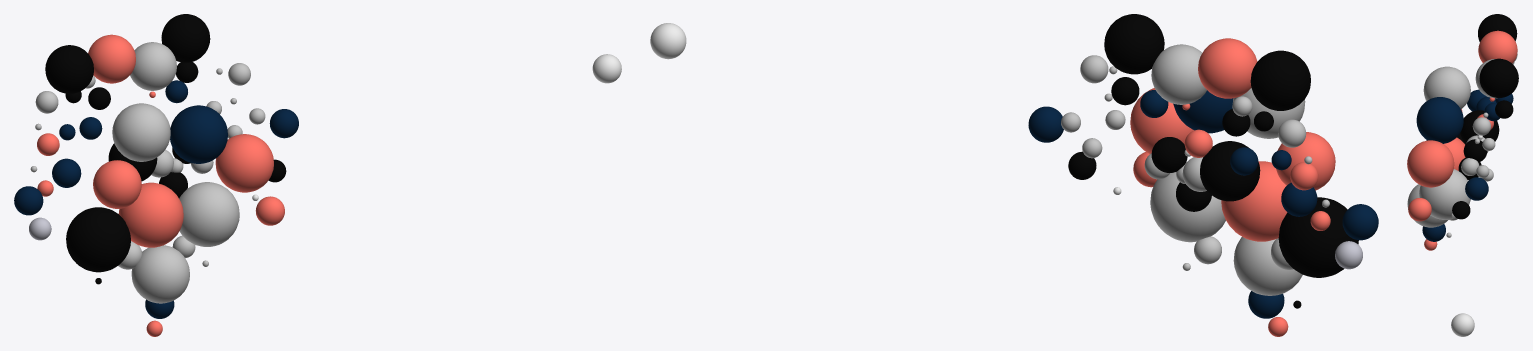
The model's file is bubbles.glb.
The picture shows the model from 3 angles, left to right: view 1: azimuth 30°, elevation 25°; view 2: azimuth 150°, elevation 25°; view 3: azimuth 270°, elevation 25°; orthographic projection. The views are drawn at different scales.
Visible parts, largest first — view 1: Sphere.002, Sphere.001, Sphere.014, Sphere.006, Sphere.007, Sphere.008, Sphere.013, Sphere.011, Sphere.004, Sphere.010, Sphere.012, Sphere.009 (+7 smaller); view 2: Sphere.002, Sphere.014, Sphere.001, Sphere.011, Sphere.012, Sphere.010, Sphere.009, Sphere.013, Sphere.003, Sphere.008, Sphere.004, Sphere.007 (+20 smaller); view 3: Sphere.008, Sphere.007, Sphere.001, Sphere.006, Sphere.012, Sphere.010, Sphere.011, Sphere.003, Sphere.040, Sphere.041, Sphere.052, Sphere.033 (+16 smaller).
Part boxes in pixels (bbox=[...]): Sphere.002: bbox=[66, 207, 130, 272]; Sphere.001: bbox=[179, 182, 239, 246]; Sphere.014: bbox=[118, 182, 183, 247]; Sphere.006: bbox=[112, 103, 170, 161]; Sphere.007: bbox=[170, 105, 227, 163]; Sphere.008: bbox=[215, 134, 273, 192]; Sphere.013: bbox=[131, 245, 189, 303]; Sphere.011: bbox=[45, 45, 93, 93]; Sphere.004: bbox=[93, 160, 141, 208]; Sphere.010: bbox=[88, 34, 135, 83]; Sphere.012: bbox=[161, 14, 210, 62]; Sphere.009: bbox=[130, 42, 176, 90]; Sphere.002: bbox=[1278, 197, 1358, 277]; Sphere.014: bbox=[1221, 161, 1287, 241]; Sphere.001: bbox=[1150, 162, 1225, 242]; Sphere.011: bbox=[1250, 50, 1310, 110]; Sphere.012: bbox=[1104, 14, 1164, 74]; Sphere.010: bbox=[1198, 38, 1257, 98]; Sphere.009: bbox=[1151, 44, 1206, 104]; Sphere.013: bbox=[1233, 237, 1302, 295]; Sphere.003: bbox=[1200, 141, 1260, 201]; Sphere.008: bbox=[1130, 88, 1193, 153]; Sphere.004: bbox=[1276, 132, 1335, 190]; Sphere.007: bbox=[1173, 90, 1233, 133]; Sphere.008: bbox=[1407, 140, 1454, 187]; Sphere.007: bbox=[1416, 97, 1463, 143]; Sphere.001: bbox=[1419, 169, 1470, 219]; Sphere.006: bbox=[1423, 66, 1470, 108]; Sphere.012: bbox=[1479, 58, 1518, 97]; Sphere.010: bbox=[1478, 30, 1517, 63]; Sphere.011: bbox=[1478, 14, 1517, 41]; Sphere.003: bbox=[1460, 110, 1499, 143]; Sphere.040: bbox=[1465, 177, 1488, 200]; Sphere.041: bbox=[1451, 313, 1474, 336]; Sphere.052: bbox=[1408, 198, 1431, 221]; Sphere.033: bbox=[1463, 139, 1487, 162].
Size of the model in its own units: 42.12 by 18.35 by 8.51.
